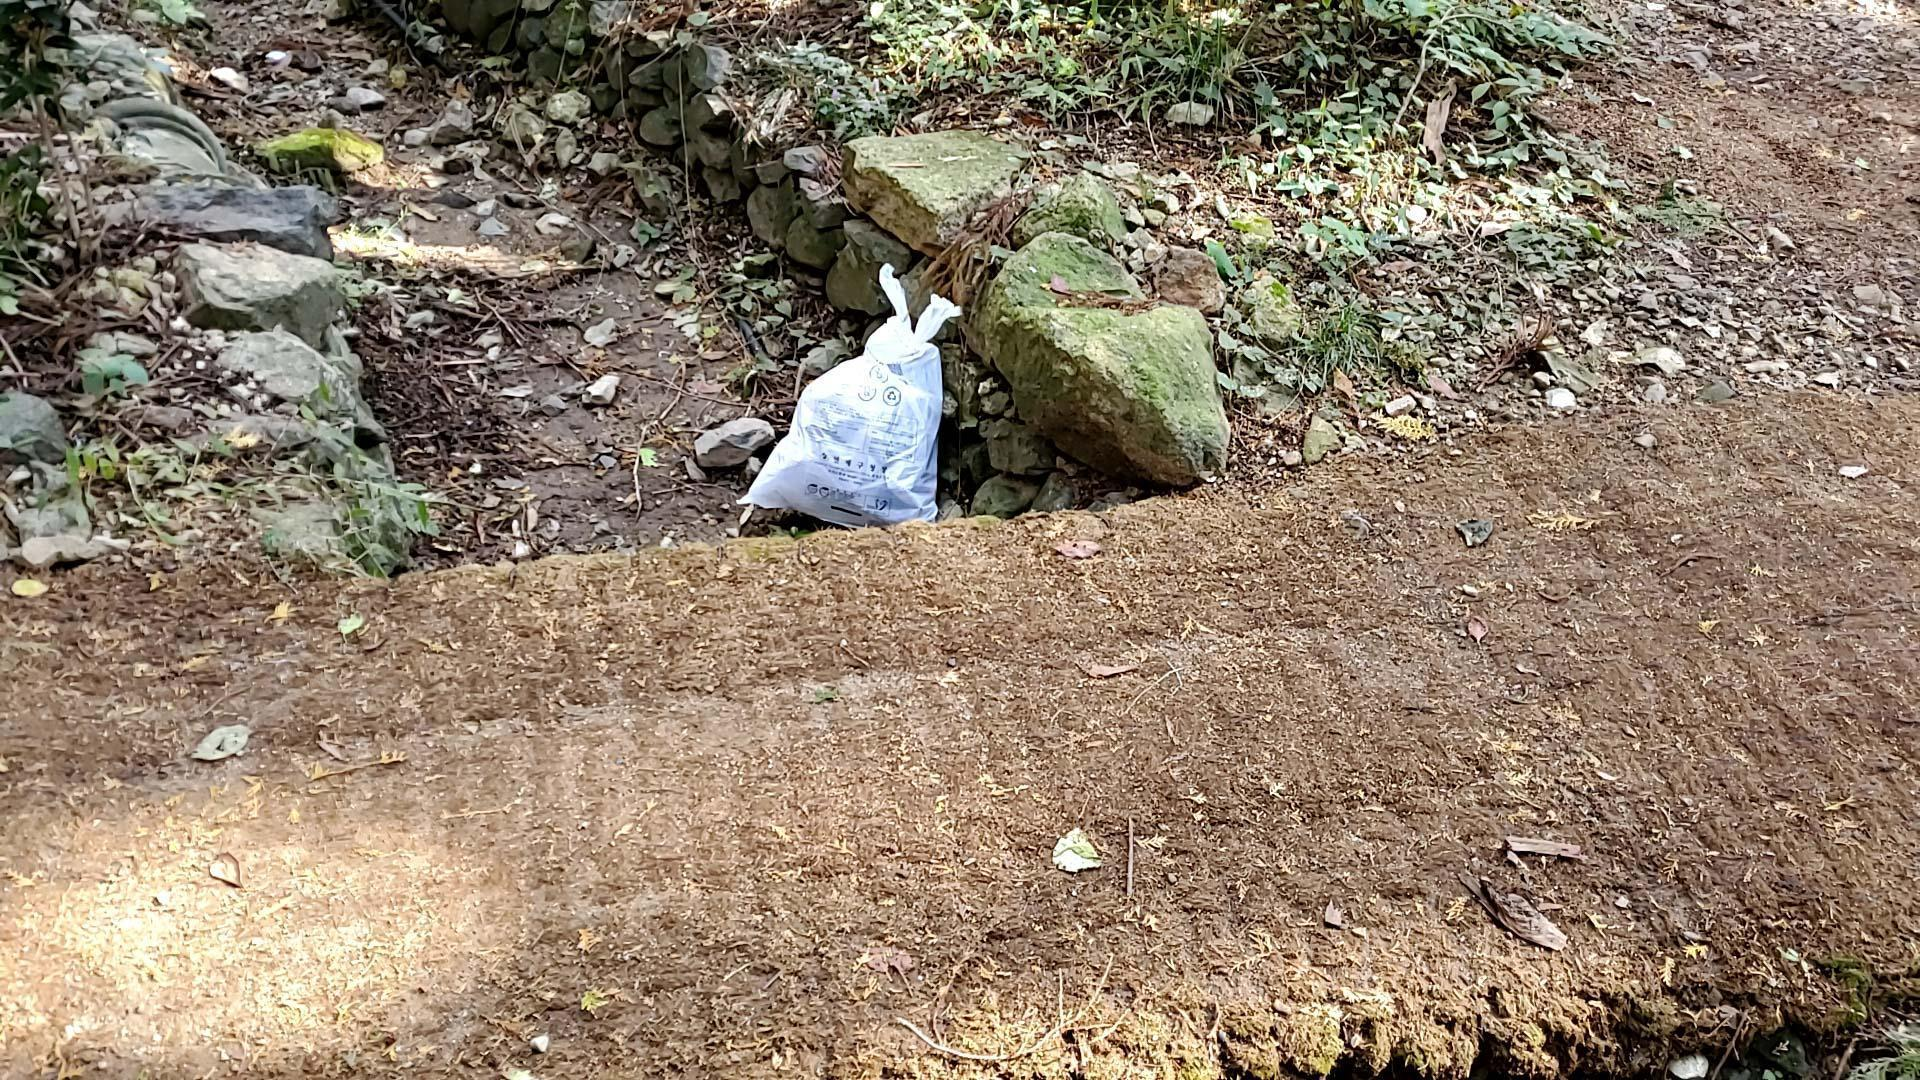white_bag: (724, 252, 981, 542)
